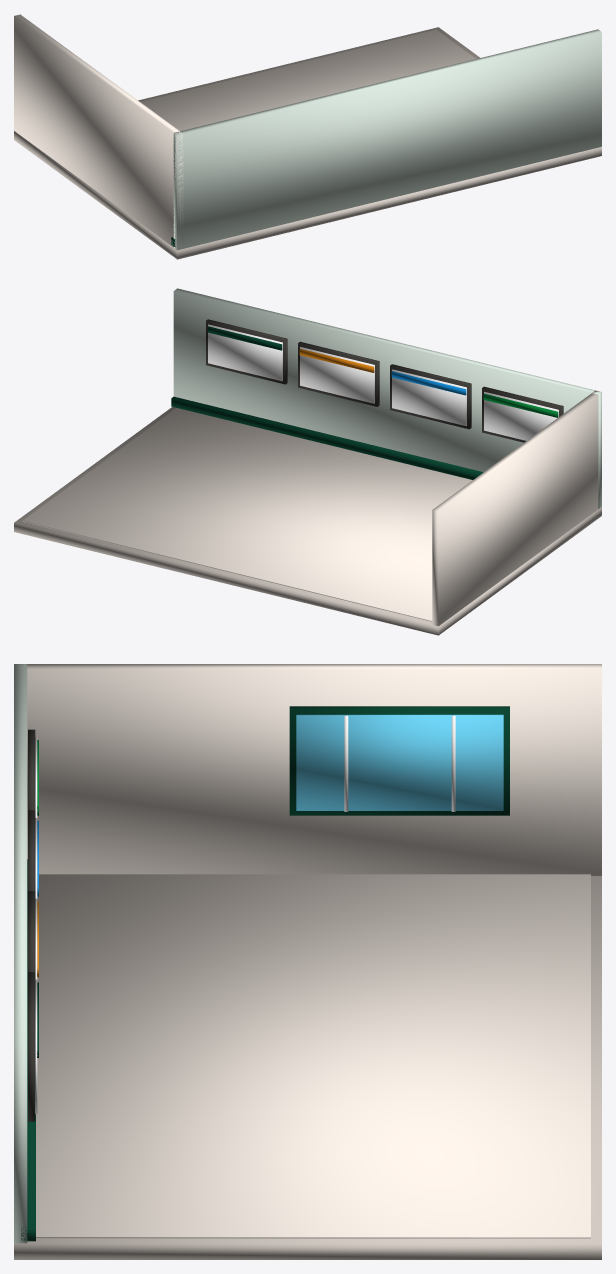
Rendered from incident_room_shell.glb.
3 views of the same model, one above another, from view 1: azimuth 30°, elevation 25°; view 2: azimuth 150°, elevation 25°; view 3: azimuth 270°, elevation 25° (orthographic). The views are drawn at different scales.
Visible parts, largest first — view 1: back-wall, side-wall, floor-inlay, raised-floor; view 2: floor-inlay, back-wall, side-wall, raised-floor, back-skirt, display-2, display-1, display-3, display-0, display-frame-3, display-frame-2, display-frame-1 (+5 smaller); view 3: floor-inlay, side-wall, window-inset, raised-floor, back-wall, window-frame, back-skirt, display-frame-3.
Boxes of the visible parts, left/top/right/bottom form: back-wall: left=173, top=29, right=601, bottom=250; side-wall: left=14, top=14, right=183, bottom=249; floor-inlay: left=140, top=29, right=475, bottom=131; raised-floor: left=14, top=27, right=601, bottom=259; floor-inlay: left=22, top=408, right=472, bottom=621; back-wall: left=173, top=288, right=601, bottom=508; side-wall: left=432, top=390, right=600, bottom=626; raised-floor: left=14, top=407, right=601, bottom=635; back-skirt: left=171, top=396, right=483, bottom=479; display-2: left=300, top=347, right=374, bottom=403; display-1: left=392, top=369, right=466, bottom=426; display-3: left=208, top=324, right=282, bottom=381; display-0: left=484, top=391, right=558, bottom=440; display-frame-3: left=206, top=319, right=287, bottom=384; display-frame-2: left=298, top=341, right=379, bottom=406; display-frame-1: left=390, top=364, right=471, bottom=429; floor-inlay: left=36, top=874, right=590, bottom=1238; side-wall: left=17, top=664, right=601, bottom=875; window-inset: left=296, top=714, right=503, bottom=810; raised-floor: left=14, top=876, right=601, bottom=1259; back-wall: left=14, top=664, right=27, bottom=1243; window-frame: left=289, top=706, right=509, bottom=815; back-skirt: left=21, top=859, right=35, bottom=1241; display-frame-3: left=28, top=972, right=35, bottom=1121.
Bounding box in the file's own units: 12 × 3.35 × 8.
